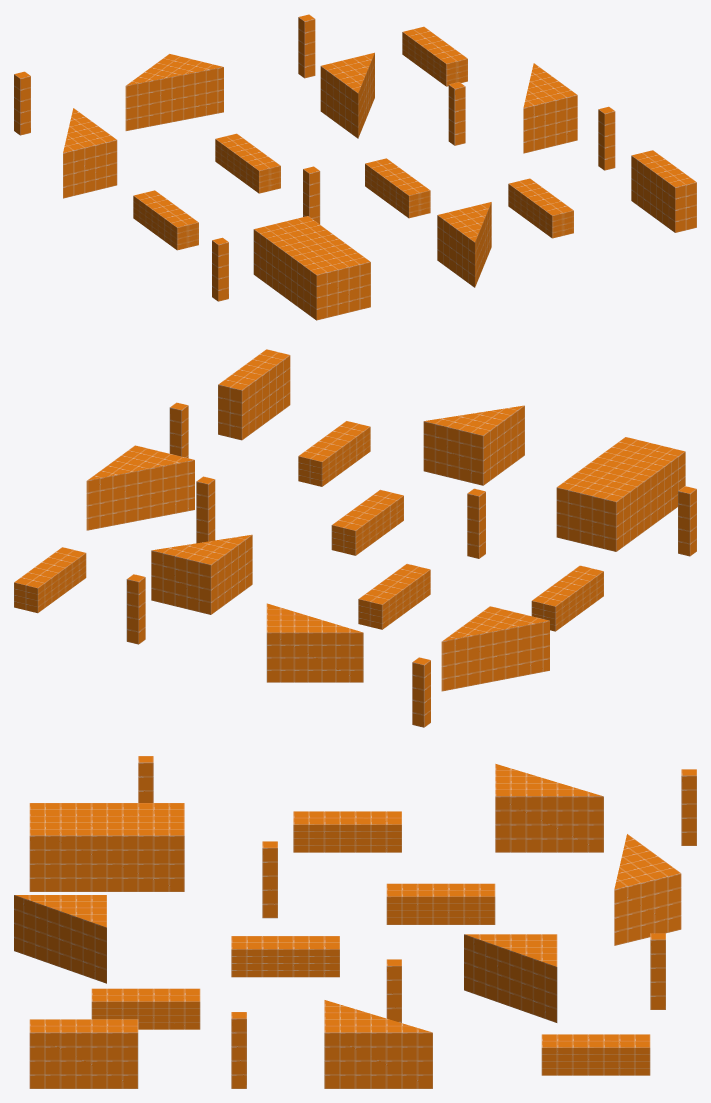
The model's file is obst.obj.
3 views of the same model, one above another, from view 1: azimuth 30°, elevation 25°; view 2: azimuth 150°, elevation 25°; view 3: azimuth 270°, elevation 25° (orthographic). The views are drawn at different scales.
Parts seen in each view (by area): view 1: PolyShape__3_, PolyShape__9_, PolyShape__11_, PolyShape, PolyShape__7_, PolyShape__1_, PolyShape__10_, PolyShape__5_, PolyShape__6_, PolyShape__2_, PolyShape__4_, PolyShape__8_ (+6 smaller); view 2: PolyShape__3_, PolyShape, PolyShape__7_, PolyShape__9_, PolyShape__1_, PolyShape__10_, PolyShape__11_, PolyShape__2_, PolyShape__8_, PolyShape__4_, PolyShape__5_, PolyShape__6_ (+6 smaller); view 3: PolyShape__3_, PolyShape__7_, PolyShape, PolyShape__11_, PolyShape__1_, PolyShape__10_, PolyShape__9_, PolyShape__8_, PolyShape__5_, PolyShape__2_, PolyShape__6_, PolyShape__4_ (+6 smaller).
Part boxes in pixels (x1,y1,x2,y2): PolyShape__3_: [253, 216, 370, 320]; PolyShape__9_: [125, 53, 223, 131]; PolyShape__11_: [631, 150, 696, 232]; PolyShape: [523, 63, 577, 153]; PolyShape__7_: [63, 108, 117, 198]; PolyShape__1_: [320, 52, 374, 138]; PolyShape__10_: [437, 202, 491, 287]; PolyShape__5_: [215, 133, 280, 193]; PolyShape__6_: [133, 190, 198, 250]; PolyShape__2_: [365, 158, 430, 218]; PolyShape__4_: [508, 178, 573, 238]; PolyShape__8_: [402, 26, 467, 86]; PolyShape__3_: [556, 437, 685, 551]; PolyShape: [86, 445, 194, 530]; PolyShape__7_: [441, 606, 549, 691]; PolyShape__9_: [266, 603, 363, 682]; PolyShape__1_: [151, 534, 252, 614]; PolyShape__10_: [423, 405, 524, 485]; PolyShape__11_: [218, 349, 290, 440]; PolyShape__2_: [331, 489, 403, 555]; PolyShape__8_: [14, 547, 86, 613]; PolyShape__4_: [298, 421, 370, 486]; PolyShape__5_: [358, 563, 430, 629]; PolyShape__6_: [531, 565, 603, 631]; PolyShape__3_: [29, 803, 184, 891]; PolyShape__7_: [495, 763, 603, 852]; PolyShape: [324, 1000, 432, 1088]; PolyShape__11_: [29, 1019, 138, 1088]; PolyShape__1_: [464, 934, 557, 1022]; PolyShape__10_: [14, 895, 106, 983]; PolyShape__9_: [614, 834, 681, 945]; PolyShape__8_: [541, 1034, 650, 1075]; PolyShape__5_: [386, 883, 495, 924]; PolyShape__2_: [231, 936, 339, 977]; PolyShape__6_: [293, 811, 401, 852]; PolyShape__4_: [91, 988, 200, 1029].
Bounding box in the file's own units: 41 × 5 × 44.
